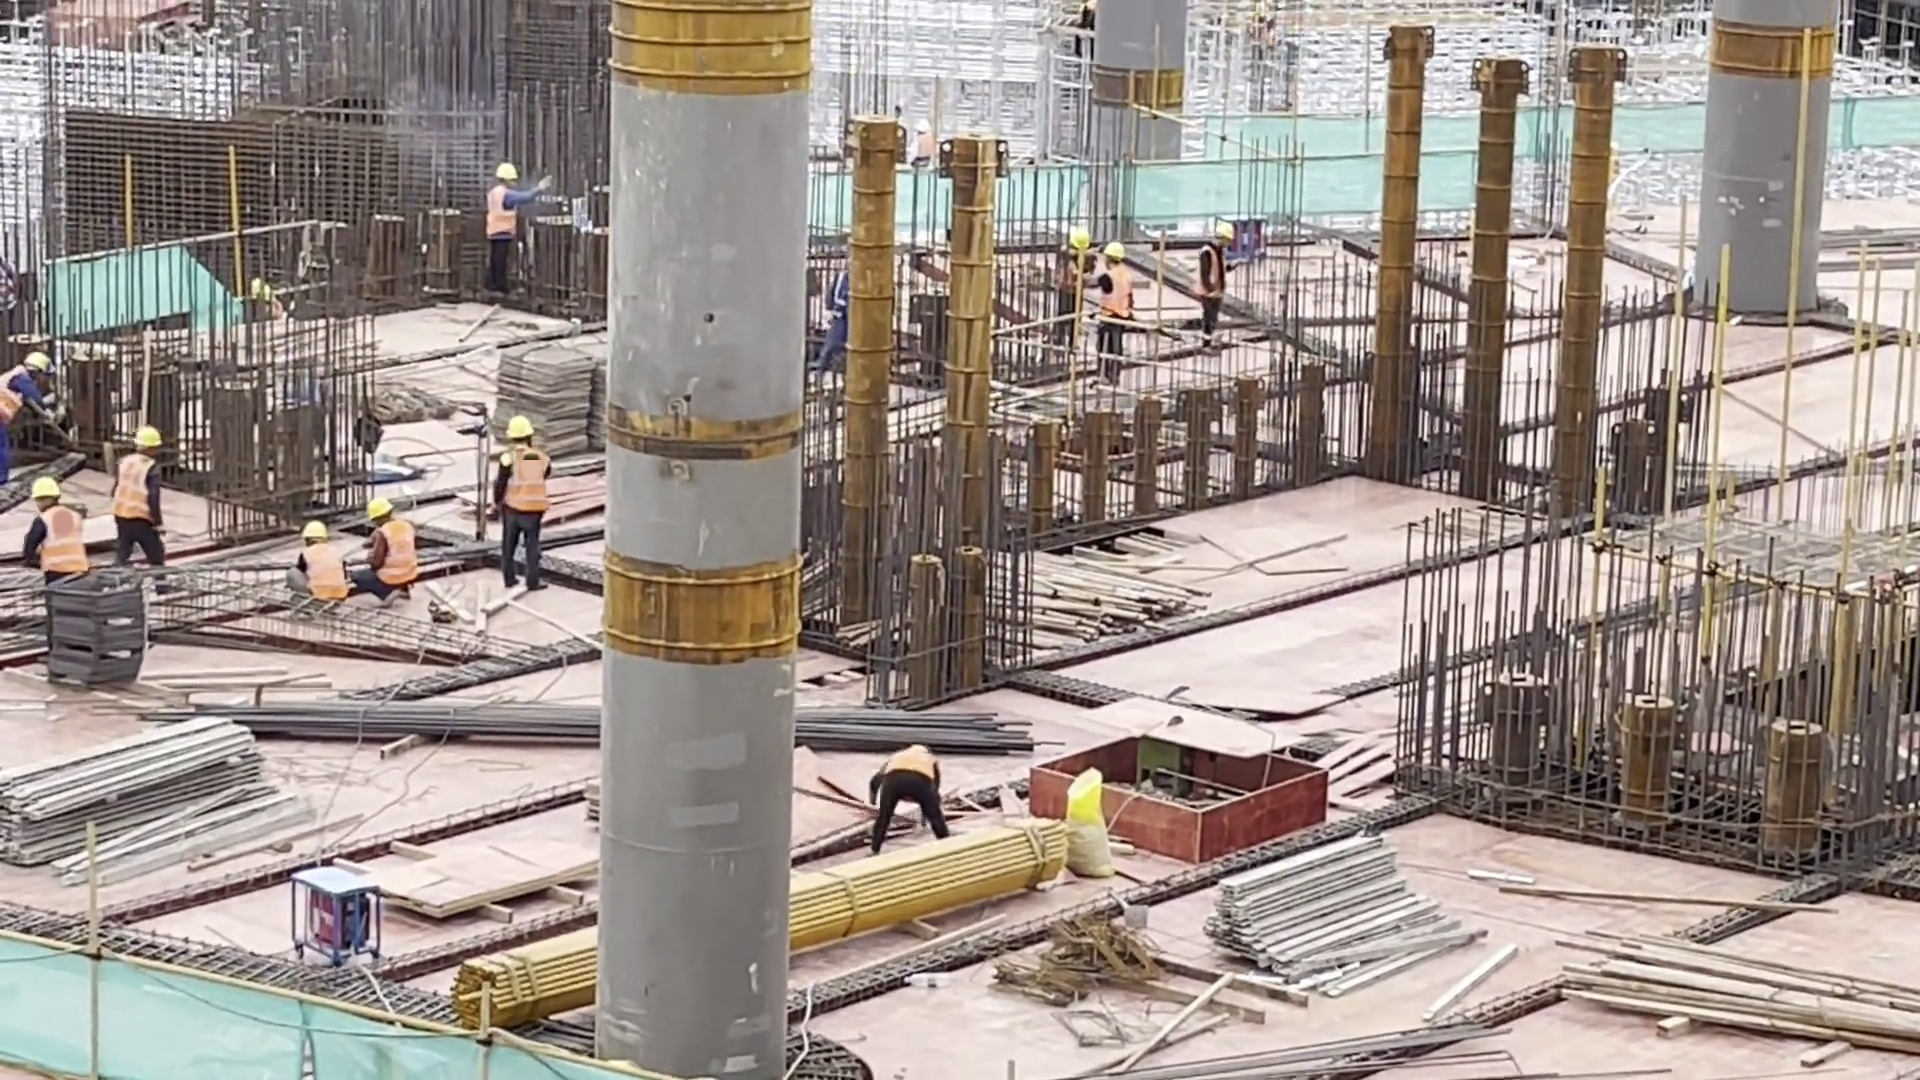helmet: (507, 415, 537, 443), (301, 519, 330, 544), (29, 476, 59, 500), (135, 426, 163, 449), (23, 353, 54, 373), (365, 497, 392, 521), (495, 159, 521, 182), (1104, 243, 1126, 264), (1215, 223, 1237, 244), (1070, 230, 1091, 251)
person: (493, 412, 551, 585), (871, 737, 949, 856), (106, 425, 166, 574), (480, 163, 553, 288), (17, 477, 88, 581), (1091, 236, 1137, 374), (349, 501, 417, 596), (1, 354, 57, 468), (1051, 219, 1093, 348), (1198, 225, 1237, 354), (288, 521, 349, 597)
vest: (39, 508, 97, 577), (503, 447, 552, 514), (113, 451, 157, 524), (298, 545, 351, 601), (378, 516, 419, 586), (1099, 266, 1130, 316), (1198, 245, 1225, 299)
